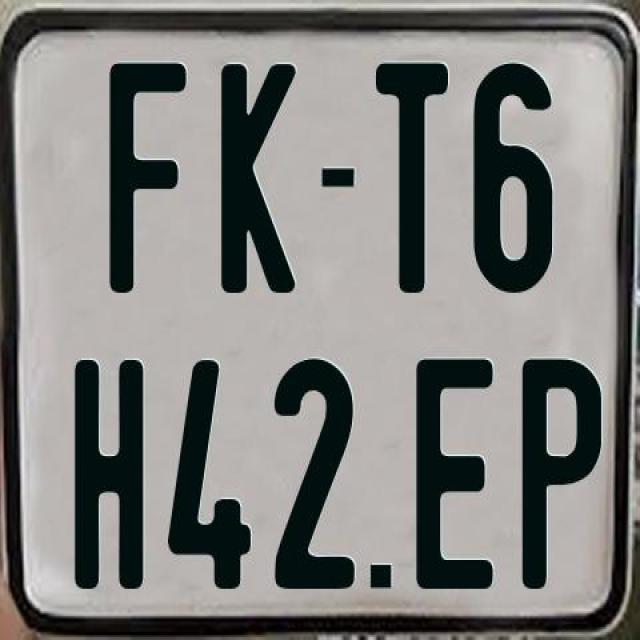2: (274, 354, 360, 594)
4: (168, 360, 258, 592)
6: (469, 62, 551, 298)
E: (412, 354, 496, 590)
F: (106, 63, 184, 300)
H: (71, 358, 140, 592)
K: (220, 59, 299, 298)
P: (518, 356, 606, 594)
T: (376, 58, 456, 292)
